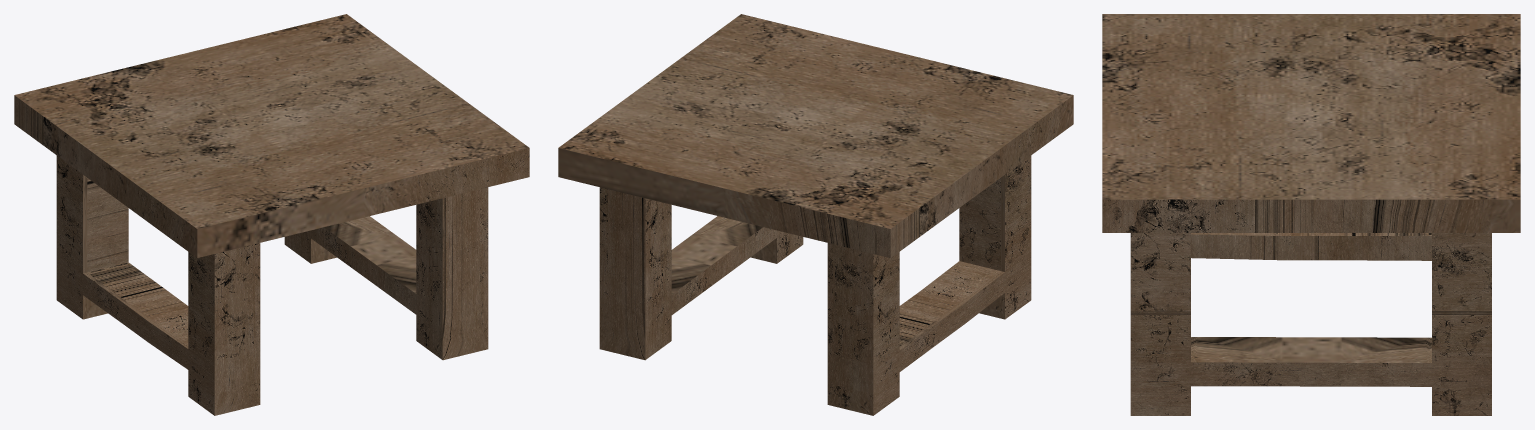
Rendered from servantTable.glb.
3 renders of one model, left to right at view 1: azimuth 30°, elevation 25°; view 2: azimuth 150°, elevation 25°; view 3: azimuth 270°, elevation 25°, orthographic. The views are drawn at different scales.
Visible parts, largest first — view 1: pCube1; view 2: pCube1; view 3: pCube1.
Part boxes in pixels (<box>): pCube1: <box>14,14,529,415</box>; pCube1: <box>558,14,1073,415</box>; pCube1: <box>1102,14,1520,415</box>.
Bounding box in the file's own units: 153 × 89.58 × 146.
Materials: 1 (1 with a texture image).
